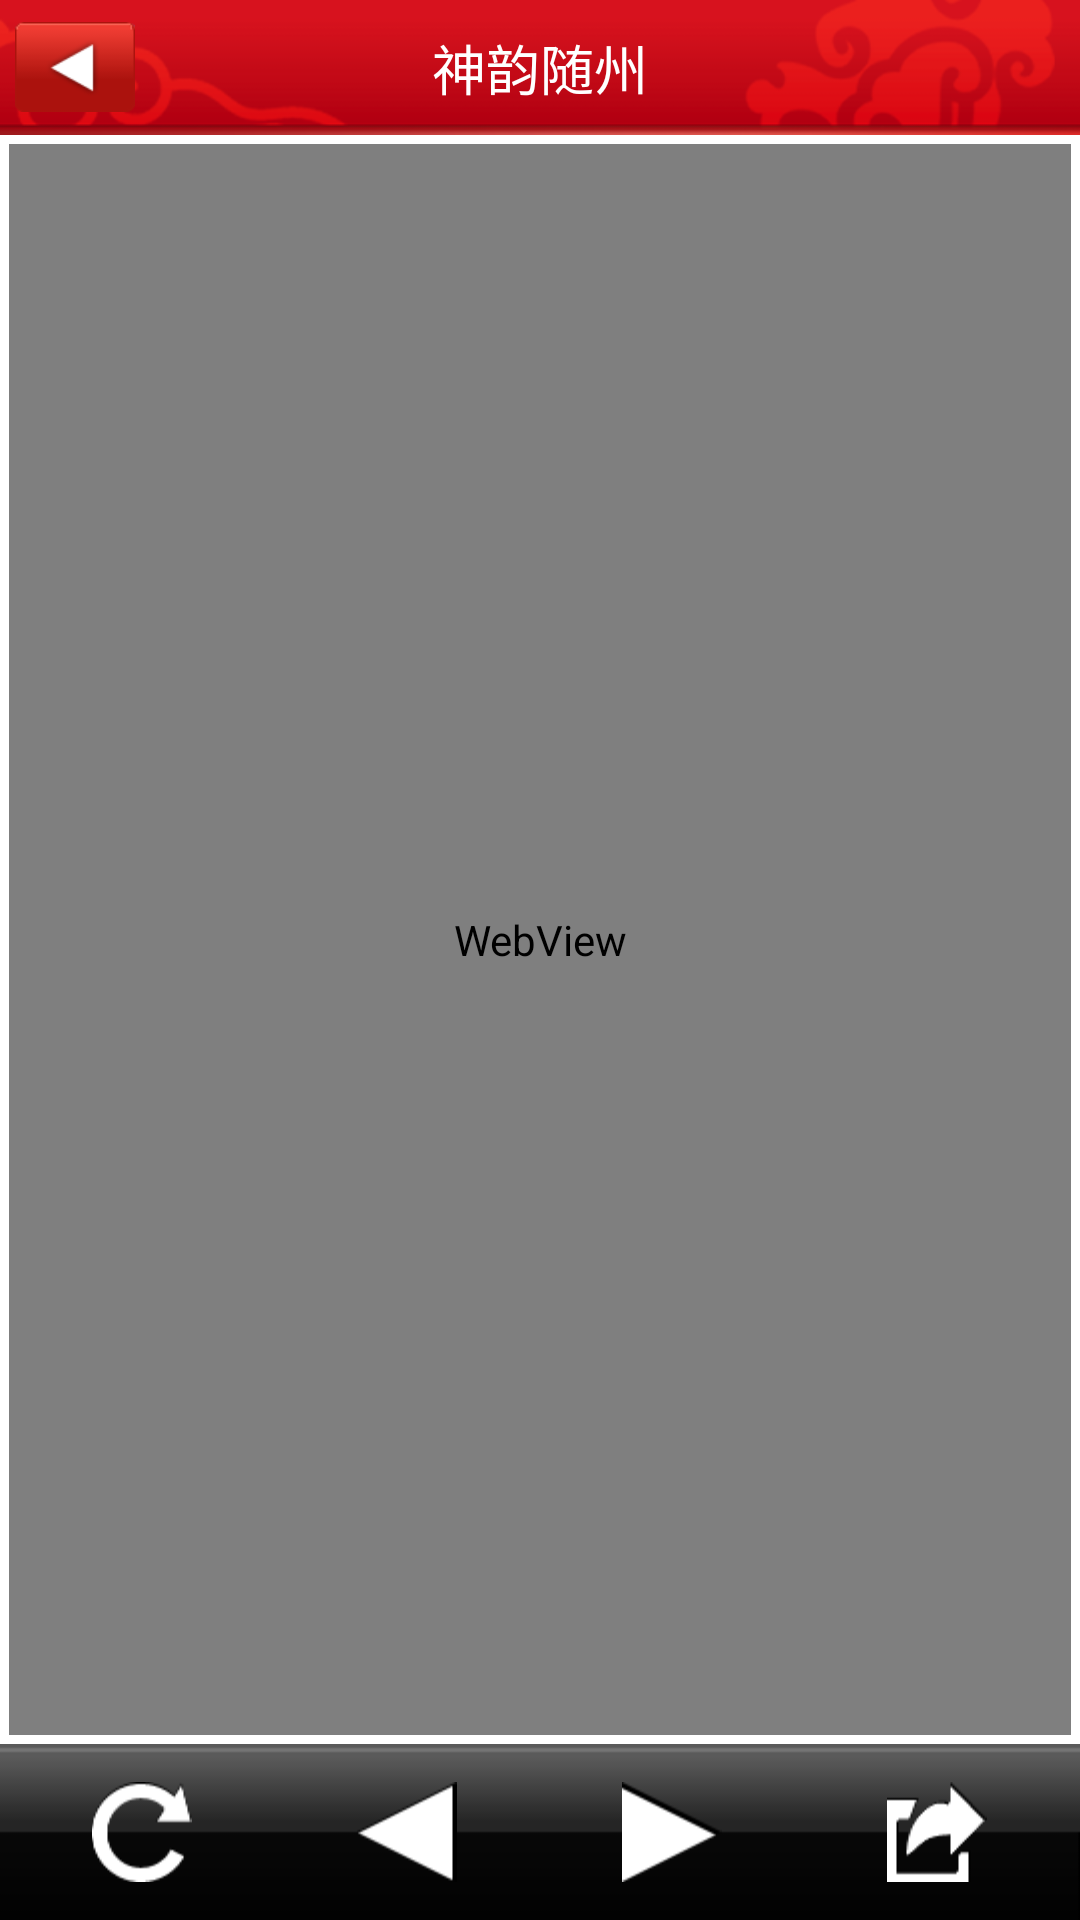

Icons on this 1080*1920 Android screen, each with the point to tap as point (x, y):
back an: point (75, 67)
